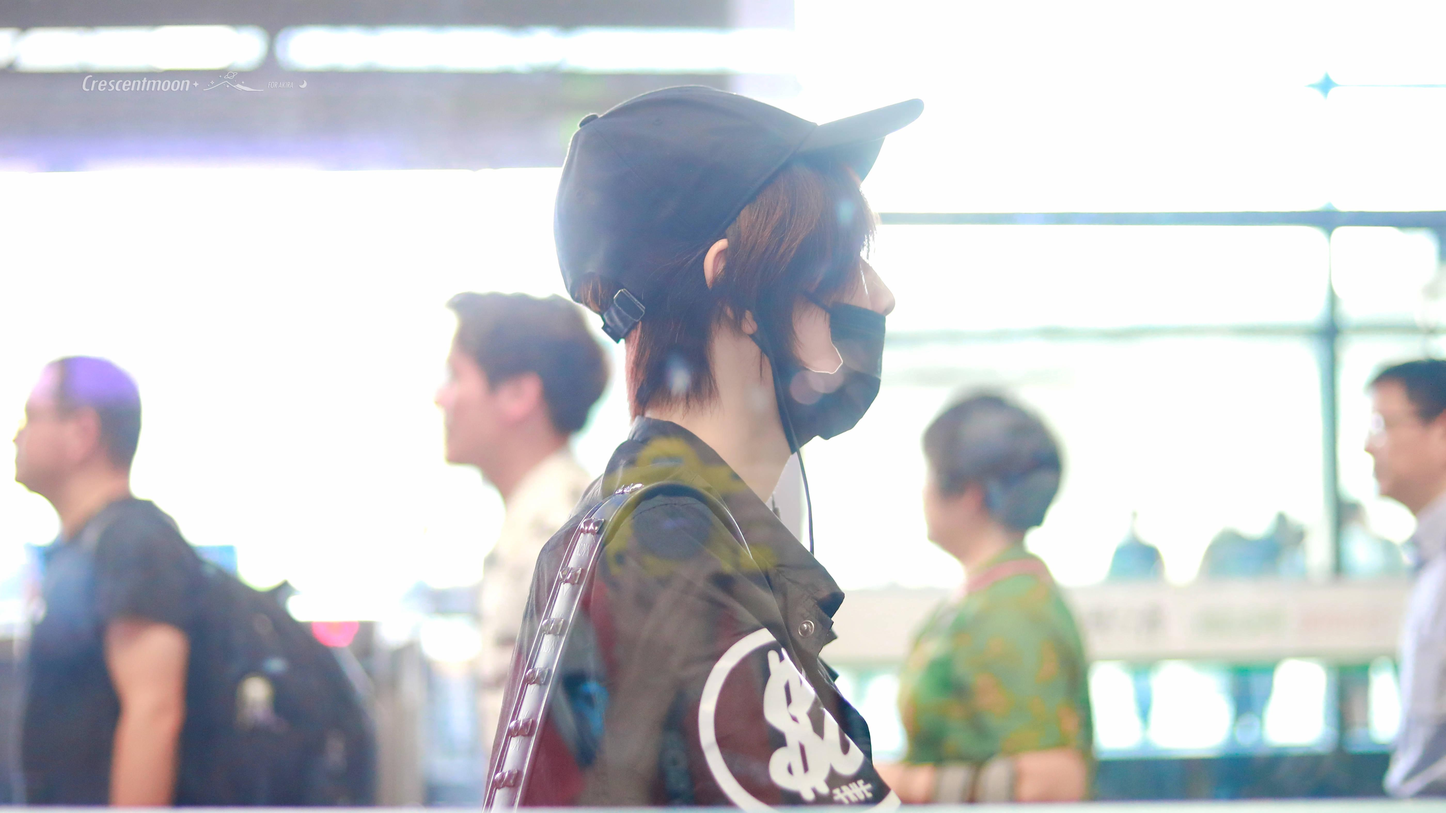NONE: (435, 344, 500, 466), (7, 375, 67, 493), (1361, 399, 1417, 503)
WRONG: (796, 203, 896, 441)
